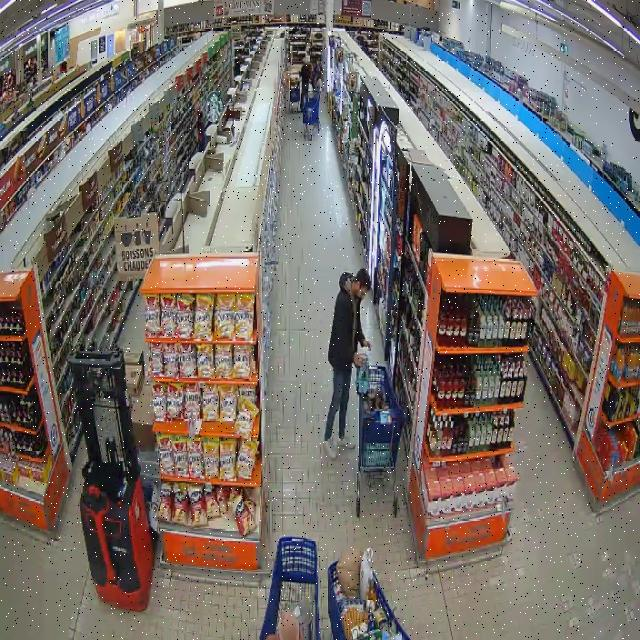article: (356, 352, 369, 396)
hands: (354, 354, 363, 367), (362, 339, 371, 348)
person: (324, 269, 370, 457)
